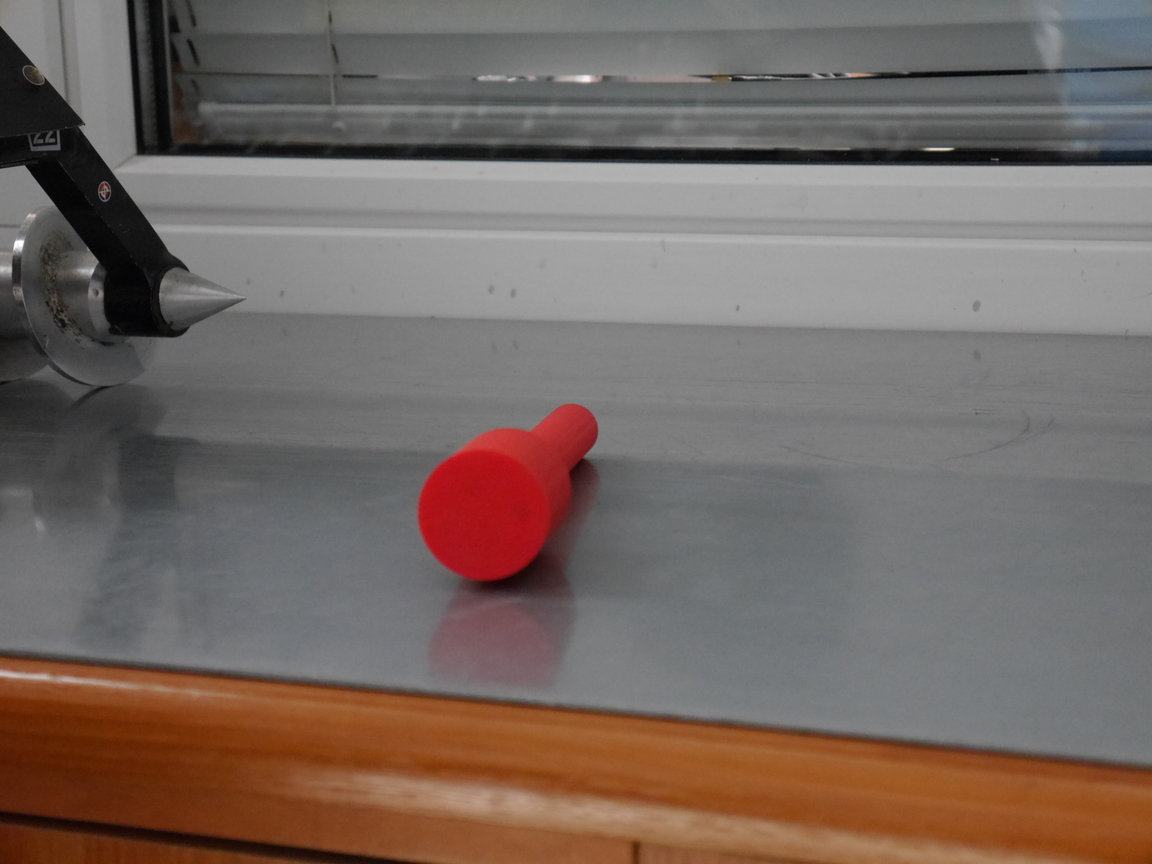cargo_g: (416, 404, 598, 585)
